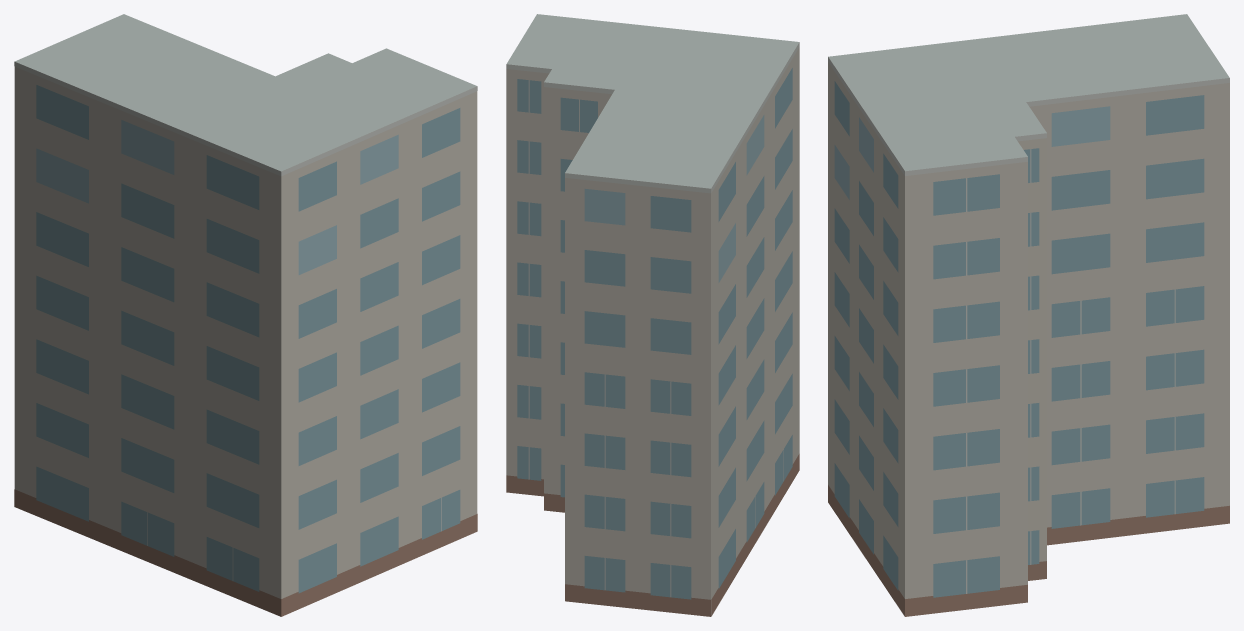
The model's file is survey-upis-32568837.glb.
3 renders of one model, left to right at view 1: azimuth 30°, elevation 25°; view 2: azimuth 150°, elevation 25°; view 3: azimuth 270°, elevation 25°, orthographic. The views are drawn at different scales.
Parts seen in each view (by area): view 1: survey-upis-32568837.tmp; view 2: survey-upis-32568837.tmp; view 3: survey-upis-32568837.tmp.
Part boxes in pixels (<box>): survey-upis-32568837.tmp: <box>14,14,477,616</box>; survey-upis-32568837.tmp: <box>506,14,799,616</box>; survey-upis-32568837.tmp: <box>828,14,1229,616</box>.
Bounding box in the file's own units: 16.7 × 22.05 × 18.02.
